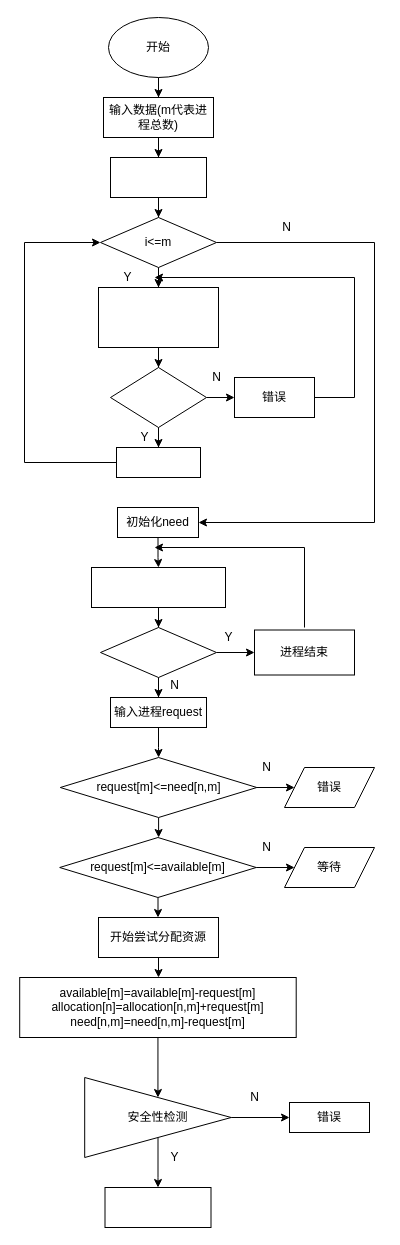
This 400x1245 diagram has some shape labels left out. The shapes that lost their labels are listed below. From the top down, each one's centre as x and y in pixels, then its label:
At point 158,177: "i=1（代表单个进程）".
At point 158,317: "输入进程i需要的最大需求向量need".
At point 158,397: "need<=资源".
At point 158,462: "i++".
At point 158,587: "任意选择进程作为当前进程".
At point 158,652: "need<0".
At point 157,1207: "完成分配".
